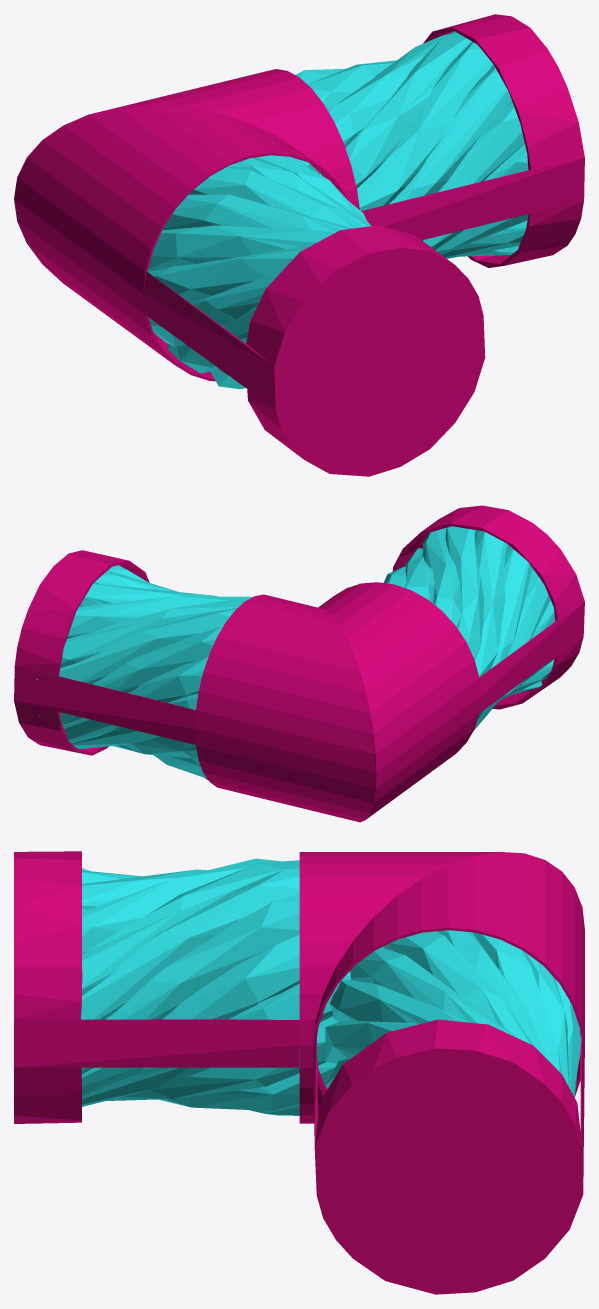
The model's file is Power_Line_Corner.fbx.
3 views of the same model, one above another, from view 1: azimuth 30°, elevation 25°; view 2: azimuth 150°, elevation 25°; view 3: azimuth 270°, elevation 25° (orthographic). The views are drawn at different scales.
Visible parts, largest first — view 1: Power_Cable_LOD0.000, Power_Cable_LOD0.003, Cylinder; view 2: Cylinder, Power_Cable_LOD0.003, Power_Cable_LOD0.000; view 3: Power_Cable_LOD0.003, Power_Cable_LOD0.000, Cylinder.
Part boxes in pixels (x1=…): Power_Cable_LOD0.000: x1=143, y1=155, x2=485, y2=476; Power_Cable_LOD0.003: x1=295, y1=14, x2=584, y2=267; Cylinder: x1=14, y1=69, x2=359, y2=381; Cylinder: x1=195, y1=582, x2=481, y2=822; Power_Cable_LOD0.003: x1=14, y1=550, x2=252, y2=779; Power_Cable_LOD0.000: x1=358, y1=505, x2=584, y2=729; Power_Cable_LOD0.003: x1=313, y1=930, x2=584, y2=1294; Power_Cable_LOD0.000: x1=14, y1=851, x2=383, y2=1123; Cylinder: x1=299, y1=852, x2=584, y2=1123.
Bounding box in the file's own units: 420 × 200 × 420.
